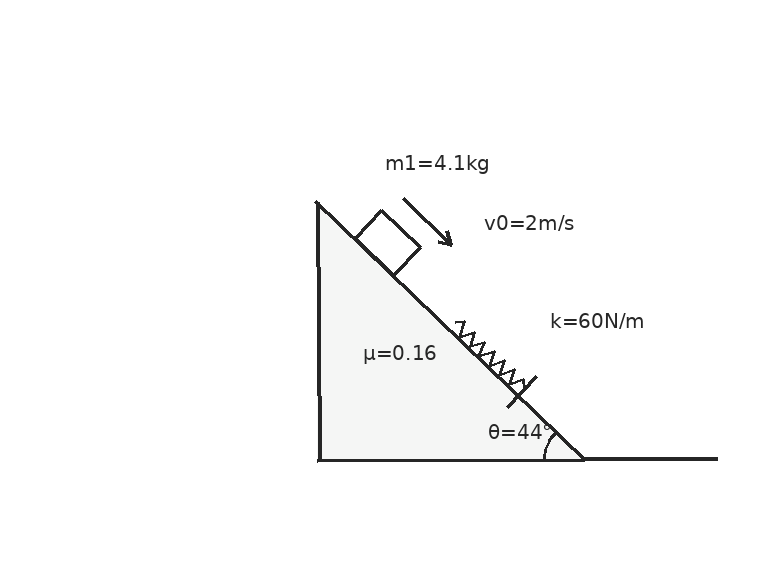block: (352, 208, 422, 277)
ramp: (315, 200, 586, 462)
spring: (452, 320, 526, 391)
